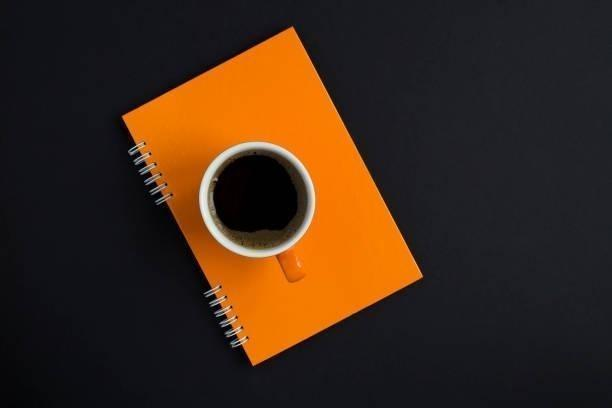cup-handle: (198, 140, 317, 283)
